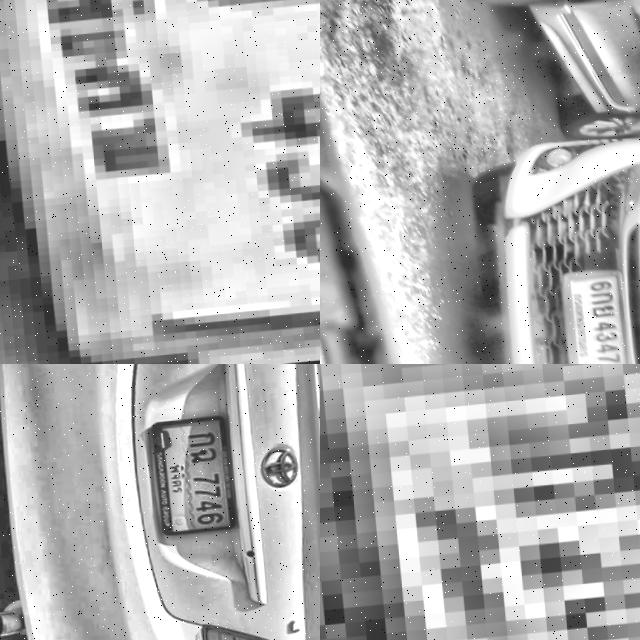license-plate: (0, 0, 320, 364), (320, 364, 640, 640), (140, 409, 246, 549), (553, 272, 630, 364)
